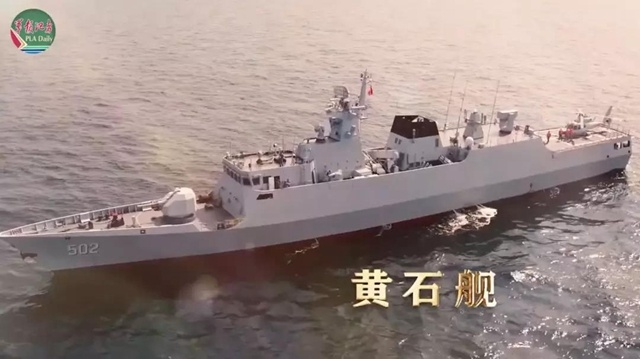warship: (1, 56, 639, 274)
